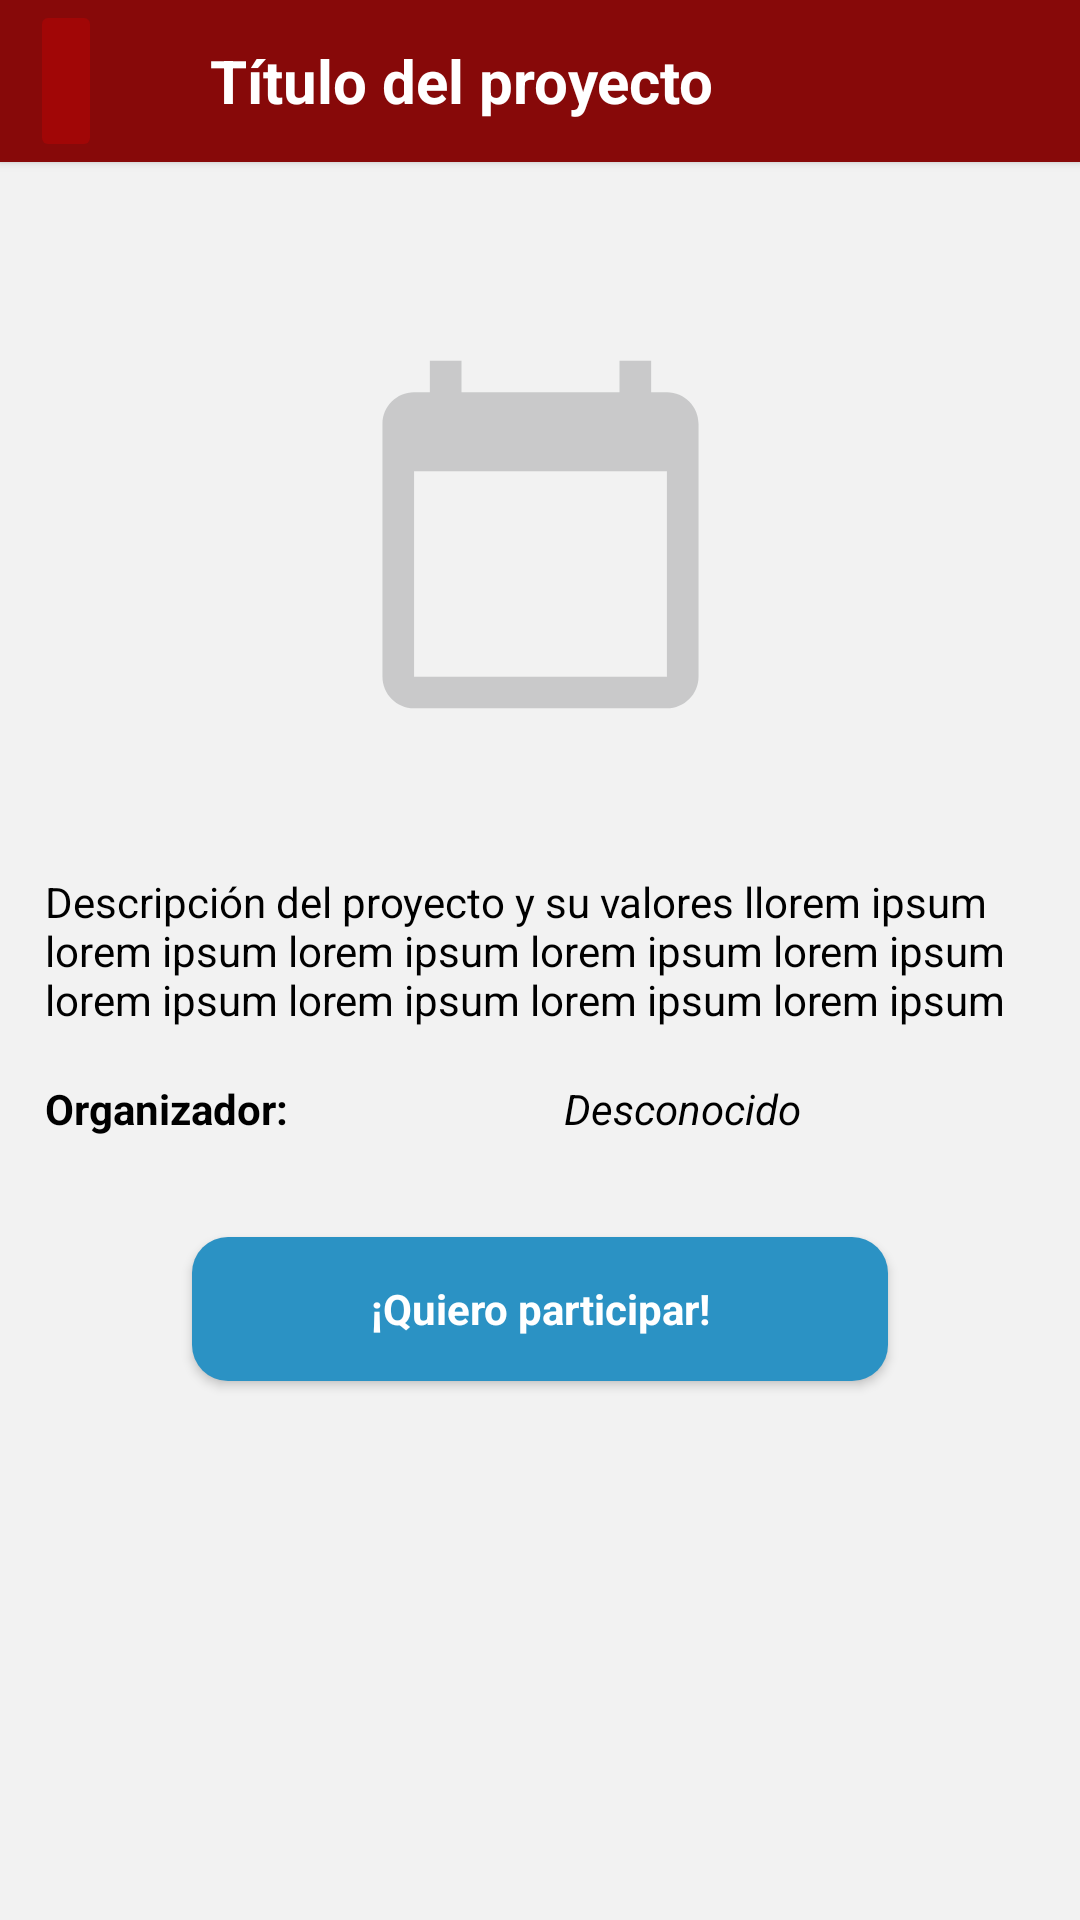

Icon click points for this 1080×1920 phone screenshot, format (x,y):
date: (540,534)
